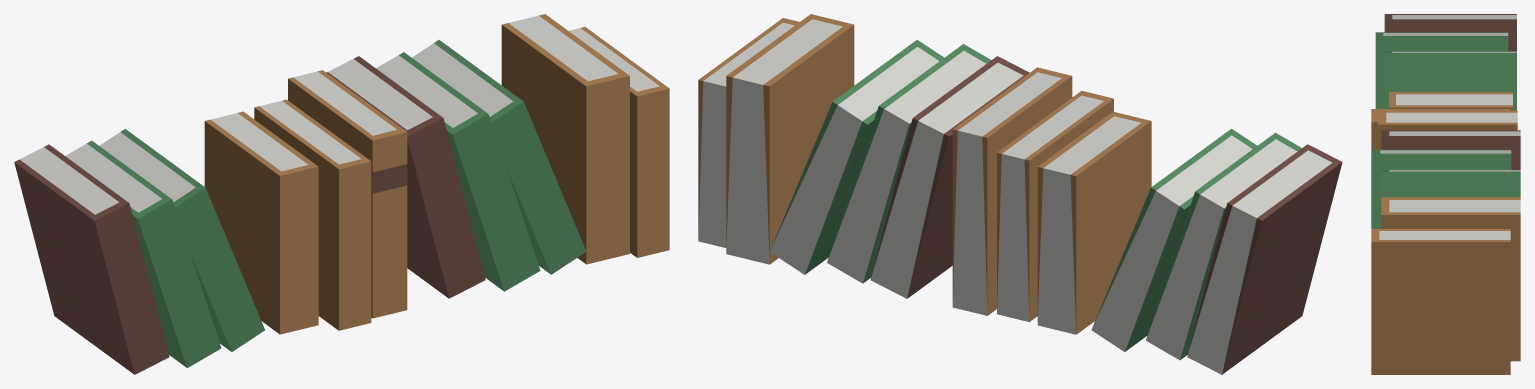
File: Book_02.FBX
3 views of the same model, side by side, from view 1: azimuth 30°, elevation 25°; view 2: azimuth 150°, elevation 25°; view 3: azimuth 270°, elevation 25° (orthographic). The views are drawn at different scales.
Visible parts, largest first — view 1: Book_02; view 2: Book_02; view 3: Book_02.
Part boxes in pixels (x1,y1,x2,y2): Book_02: (14, 14, 669, 374); Book_02: (698, 14, 1342, 374); Book_02: (1371, 14, 1520, 374).
Bounding box in the file's own units: 98.25 × 30.56 × 27.2.
